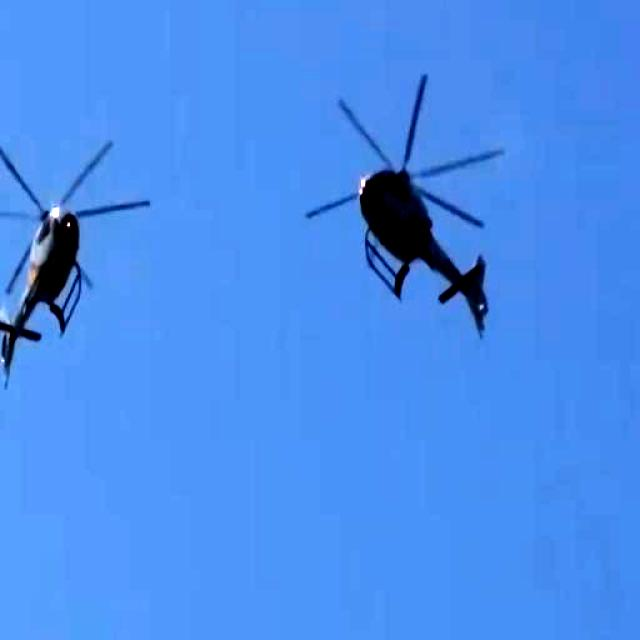drone: (331, 72, 519, 370), (0, 134, 119, 371)
